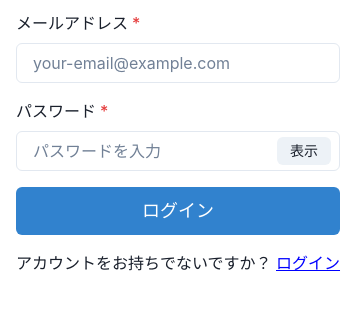
Test: LoginForm › 無効なメールアドレスでエラーが表示される
This screenshot has width=357, height=325.
無効なメールアドレスを入力
Type "invalid-email" into the field labelled "メールアドレス*" at (178, 63), box top-left (16, 43), bottom-right (340, 83)
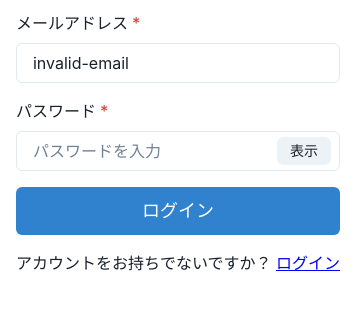
Type "password123" into the password field labelled "パスワード*" at (178, 151), box top-left (16, 131), bottom-right (340, 171)
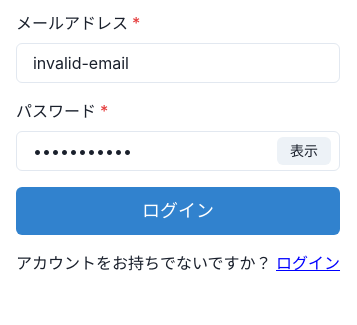
ログインボタンをクリック
Click the button "ログイン" at (178, 211), box top-left (16, 187), bottom-right (340, 235)
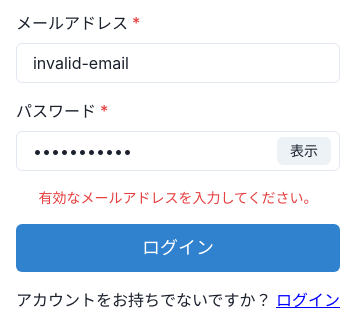
expect the text "有効なメールアドレスを入力してください。" is shown: met, box top-left (16, 187), bottom-right (340, 208)
